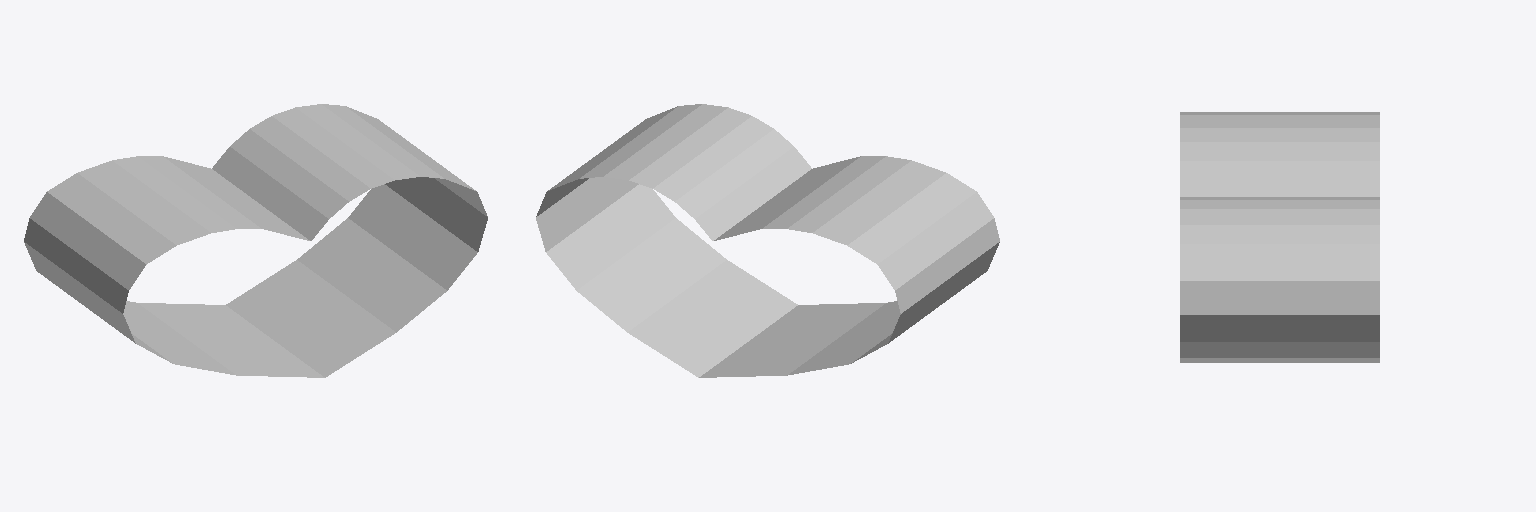
File: heart12-pocket.obj
3 renders of one model, left to right at view 1: azimuth 30°, elevation 25°; view 2: azimuth 150°, elevation 25°; view 3: azimuth 270°, elevation 25°, orthographic.
Size of the model in its own units: 4.23 by 2 by 2.